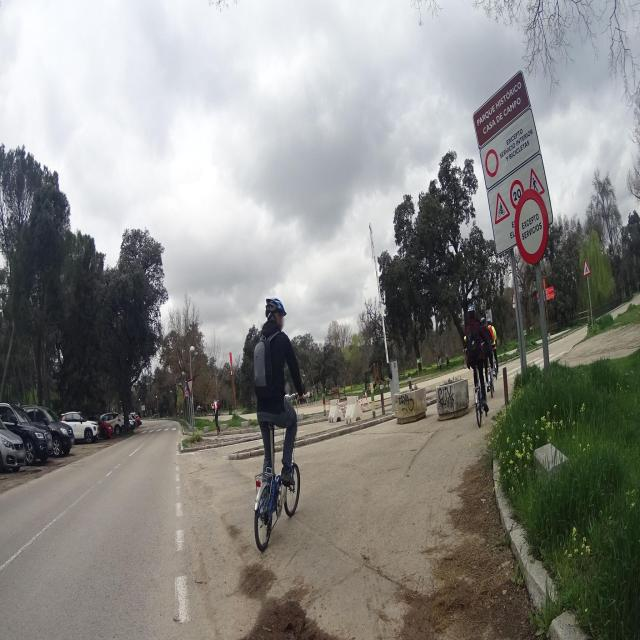bike: (253, 396, 303, 555), (468, 361, 493, 426), (484, 352, 498, 396)
car: (0, 402, 52, 466), (20, 406, 74, 456), (0, 410, 27, 474), (60, 411, 99, 444), (100, 411, 124, 436), (128, 411, 140, 427)
